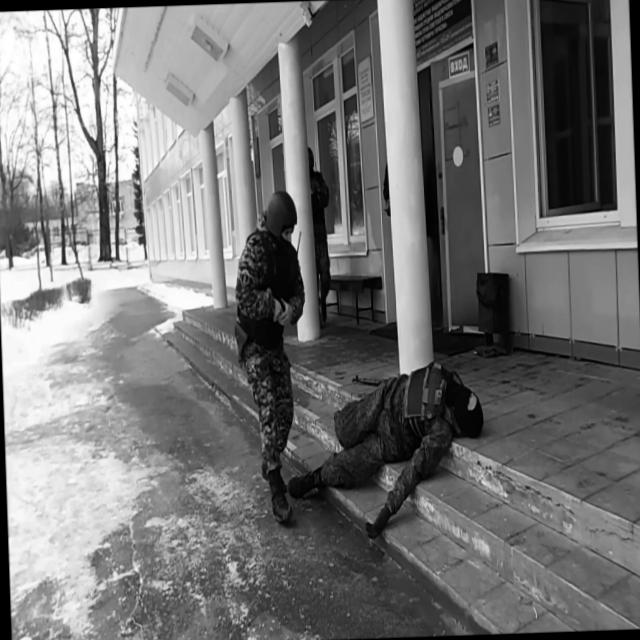gun: (231, 317, 250, 364), (349, 367, 384, 388)
person: (306, 144, 336, 332)
person with a gun: (284, 357, 489, 542), (226, 184, 312, 528)
